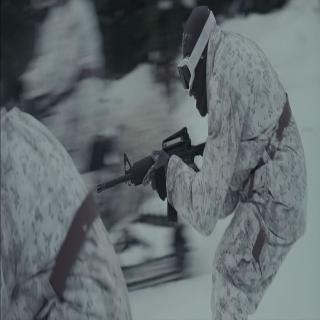gun: (95, 124, 217, 227)
